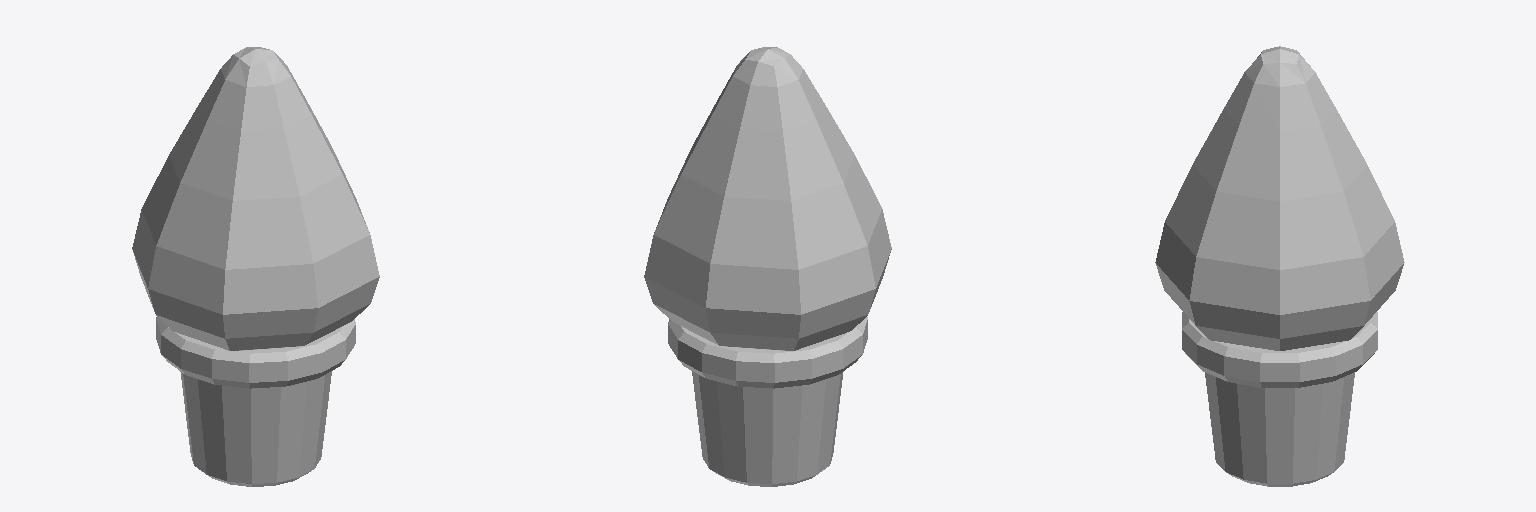
File: plant_A.obj
3 renders of one model, left to right at view 1: azimuth 30°, elevation 25°; view 2: azimuth 150°, elevation 25°; view 3: azimuth 270°, elevation 25°, orthographic.
Parts seen in each view (by area): view 1: plant_A; view 2: plant_A; view 3: plant_A.
Part boxes in pixels (bbox=[...]): plant_A: bbox=[132, 47, 379, 486]; plant_A: bbox=[644, 47, 891, 486]; plant_A: bbox=[1155, 46, 1404, 486].
Bounding box in the file's own units: 0.7607 × 1.39 × 0.7607.